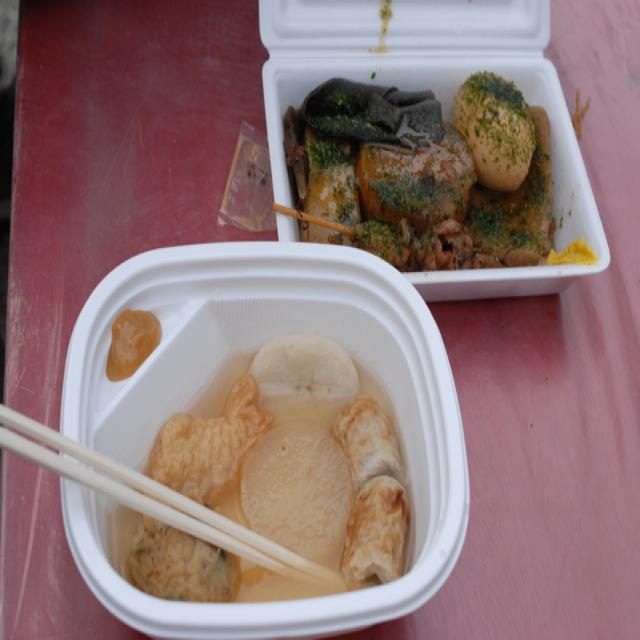汤锅炖物: (120, 337, 414, 598)
